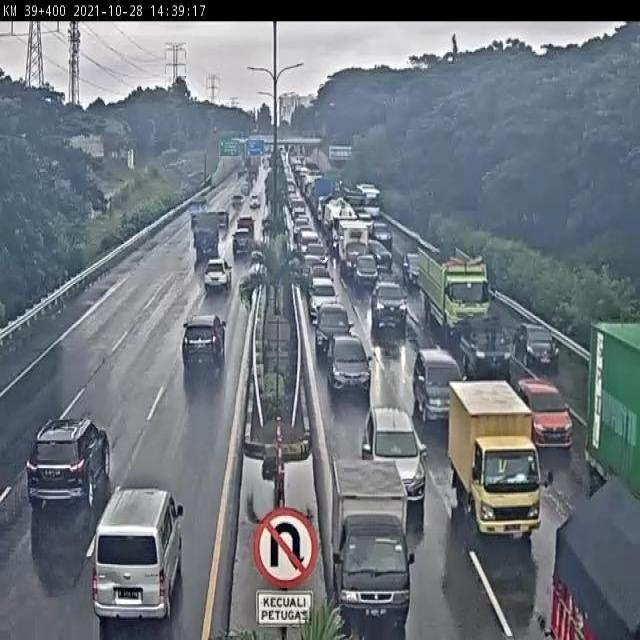big truck: (575, 311, 640, 508), (406, 233, 493, 336)
car: (85, 471, 189, 636), (19, 404, 114, 521), (362, 396, 429, 493), (508, 370, 570, 450), (409, 337, 465, 424), (173, 305, 233, 384), (506, 309, 570, 368), (319, 330, 373, 398), (307, 297, 355, 359), (367, 272, 415, 328), (200, 256, 238, 299), (399, 245, 424, 292), (227, 229, 258, 263), (232, 216, 258, 243)
mid truck: (527, 470, 640, 640), (443, 381, 549, 543), (190, 200, 225, 260)
small truck: (309, 446, 419, 630)
